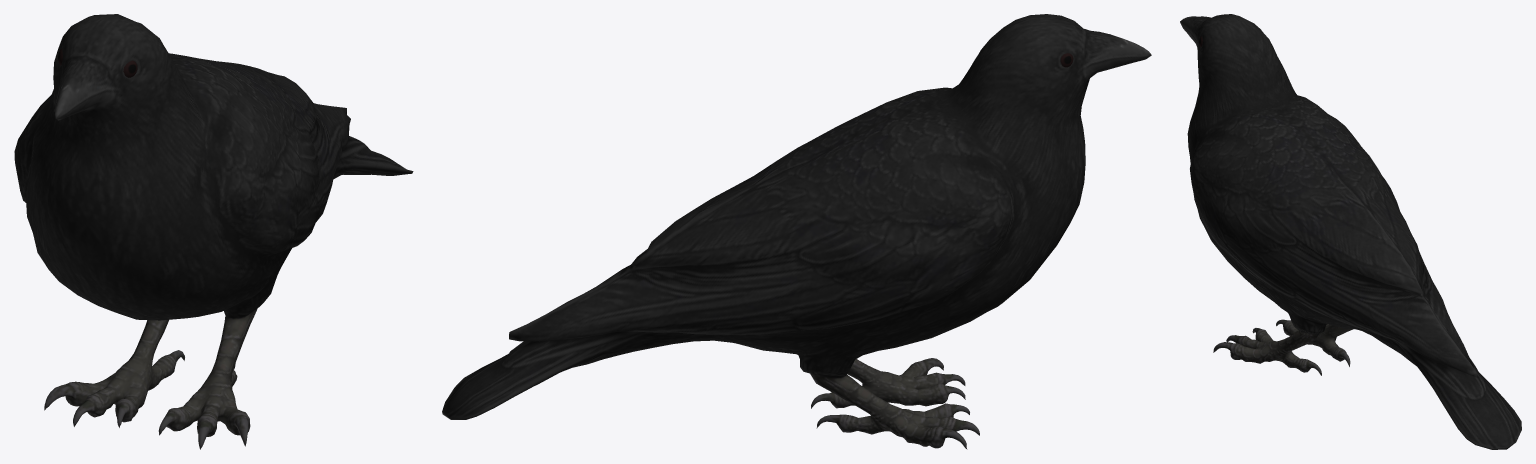
3 renders of one model, left to right at view 1: azimuth 30°, elevation 25°; view 2: azimuth 150°, elevation 25°; view 3: azimuth 270°, elevation 25°, orthographic. The views are drawn at different scales.
Parts seen in each view (by area): view 1: defaultMaterial; view 2: defaultMaterial; view 3: defaultMaterial.
Part boxes in pixels (box(x1,y1,x2,y2)): defaultMaterial: box(14, 14, 413, 449); defaultMaterial: box(442, 14, 1151, 449); defaultMaterial: box(1180, 14, 1521, 449).
Size of the model in its own units: 0.162 by 0.1212 by 0.126.
Materials: 2 (2 with a texture image).
